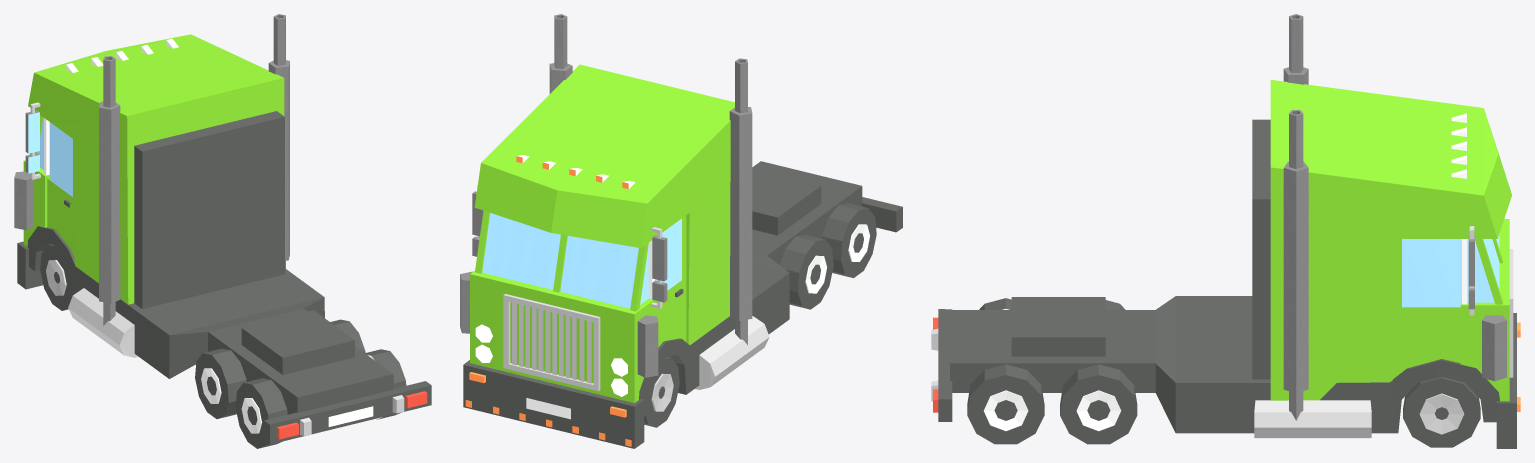
The model's file is transport_truck.008.glb.
The picture shows the model from 3 angles, left to right: view 1: azimuth 30°, elevation 25°; view 2: azimuth 150°, elevation 25°; view 3: azimuth 270°, elevation 25°; orthographic projection. The views are drawn at different scales.
Visible parts, largest first — view 1: transport_truck.008(Clone); view 2: transport_truck.008(Clone); view 3: transport_truck.008(Clone).
Boxes of the visible parts, left/top/right/bottom form: transport_truck.008(Clone): left=14, top=14, right=431, bottom=448; transport_truck.008(Clone): left=460, top=14, right=902, bottom=448; transport_truck.008(Clone): left=931, top=14, right=1520, bottom=448.
Bounding box in the file's own units: 2.13 × 3.18 × 4.97.
1 material, 1 textured.
